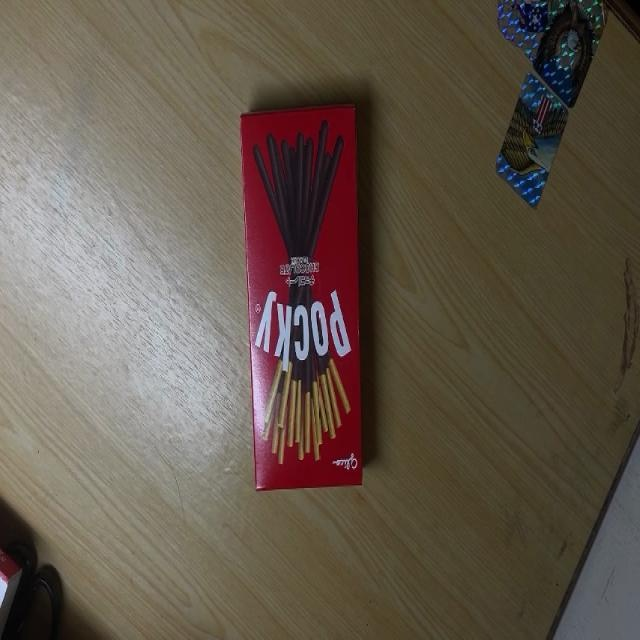Pocky: (238, 99, 364, 491)
